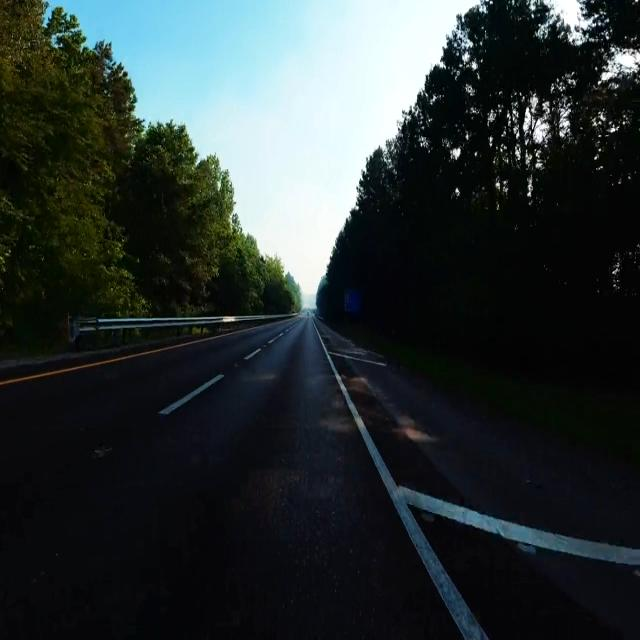lane: (321, 338, 640, 640), (160, 374, 222, 416)
road: (0, 316, 459, 637), (333, 356, 640, 547), (413, 511, 640, 636)
